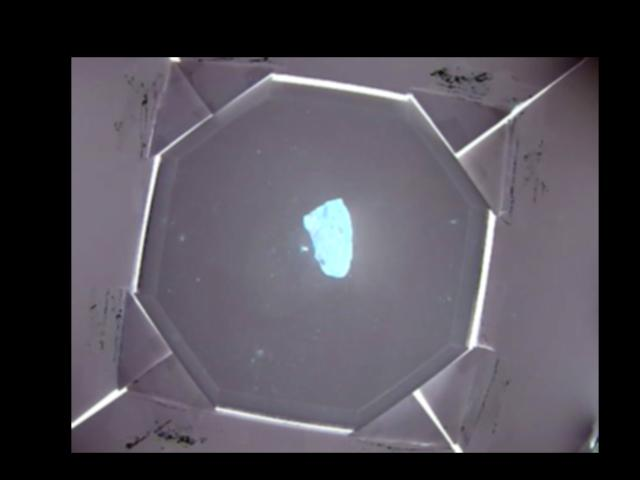Brisk: (303, 194, 354, 276)
